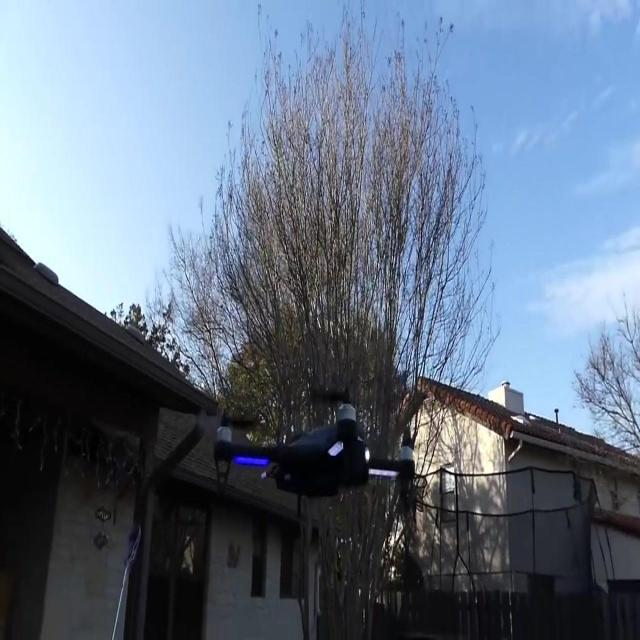drone: (215, 381, 418, 516)
